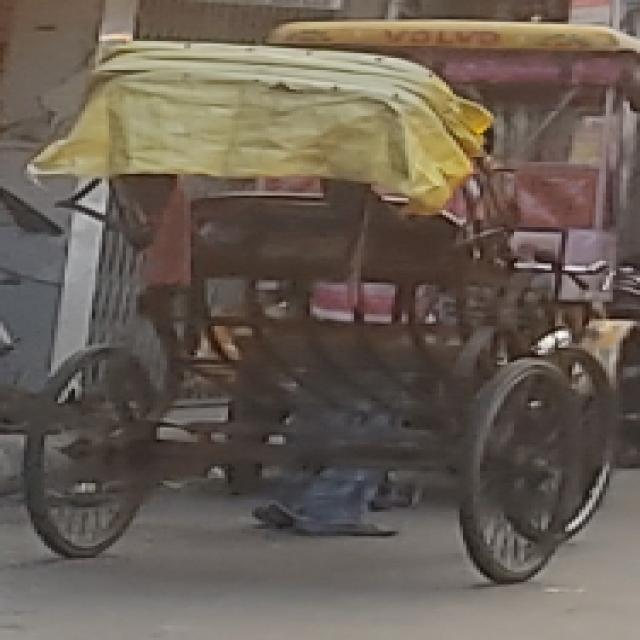rickshaw: (10, 34, 620, 584)
